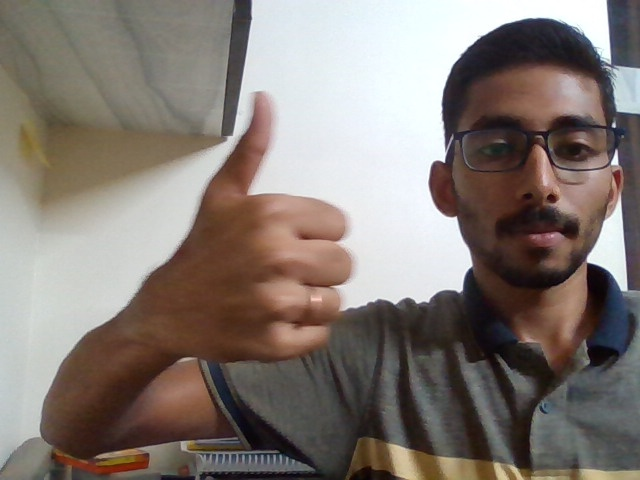Yes: (152, 81, 366, 389)
